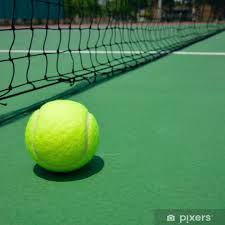tennis_ball: (24, 98, 99, 172)
